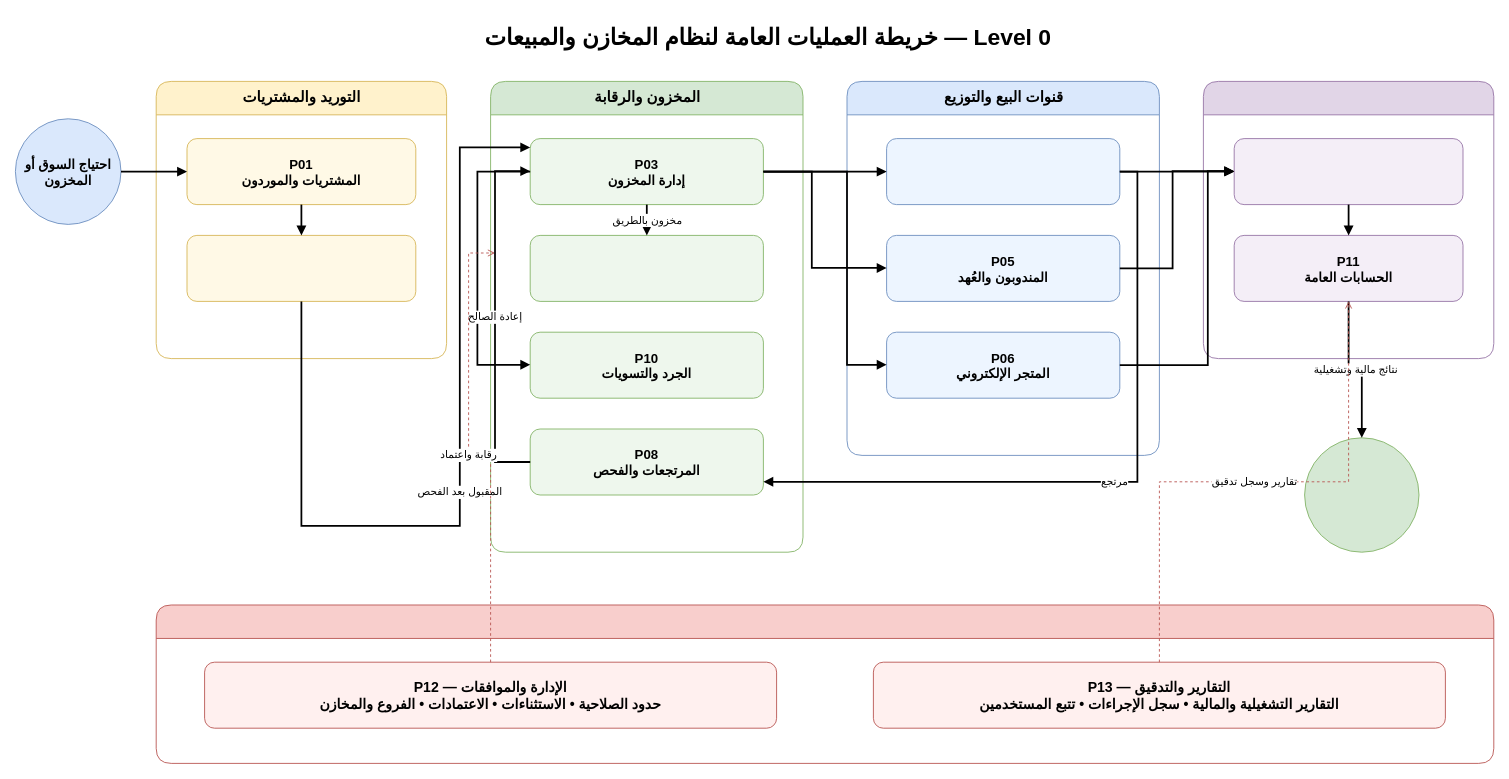
The diagram is 1509 pixels wide and 779 high, and some of its shapes have lost their labels. The shapes that lost their labels are listed below. From the top down, each one's box as (x1, y1, x2, y2) in pixels, then its label:
(886, 138, 1120, 205): P04 المبيعات المباشرة
(1233, 138, 1463, 205): P07 التحصيل والصندوق
(1203, 81, 1494, 359): التحصيل والحسابات
(186, 235, 416, 301): P02 الاستلام والفحص
(529, 235, 763, 301): P09 التحويل بين المخازن
(1304, 437, 1419, 552): قرار إداري ومالي موثوق
(155, 604, 1494, 763): طبقة الإدارة والحوكمة
